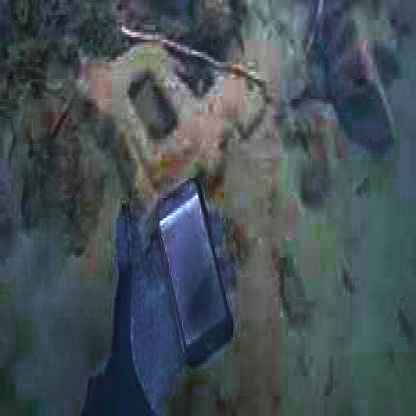cellphone: (154, 178, 234, 369)
